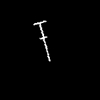double_crochet: (34, 21, 49, 60)
